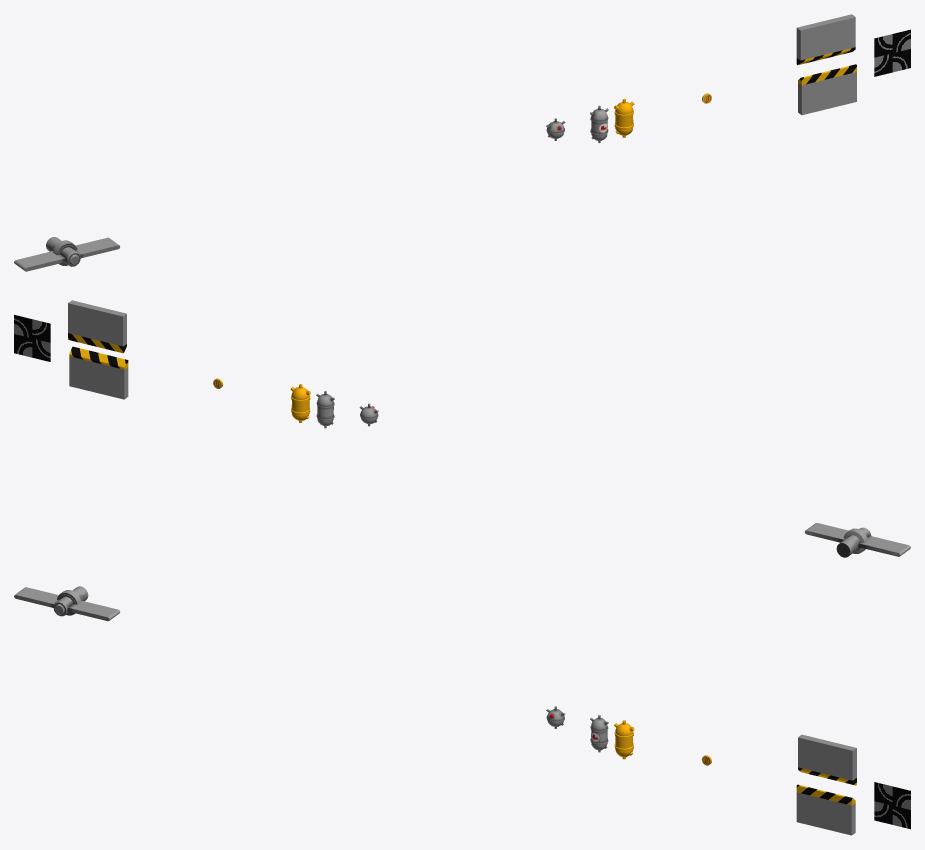
File: mobiles_items.FBX
The picture shows the model from 3 angles, top to bottom: view 1: azimuth 30°, elevation 25°; view 2: azimuth 150°, elevation 25°; view 3: azimuth 330°, elevation 25°; orthographic projection.
Parts seen in each view (by area): view 1: jawgate_top, jawgate_bottom, rotary_gate_0, fx_plane, body_capsule_edge, body_capsule_foot; view 2: jawgate_bottom, jawgate_top, rotary_gate_0, fx_plane, body_capsule_edge, body_capsule_foot; view 3: jawgate_bottom, jawgate_top, rotary_gate_0, fx_plane, body_capsule_edge, body_capsule_foot.
Boxes of the visible parts, x1,y1,x2,y2 form: jawgate_top: (796, 14, 855, 65); jawgate_bottom: (798, 64, 856, 115); rotary_gate_0: (14, 237, 119, 271); fx_plane: (874, 29, 910, 76); body_capsule_edge: (614, 98, 634, 137); body_capsule_foot: (590, 105, 608, 143); jawgate_bottom: (69, 346, 128, 399); jawgate_top: (68, 300, 126, 353); rotary_gate_0: (805, 523, 910, 557); fx_plane: (14, 315, 50, 361); body_capsule_edge: (290, 384, 310, 422); body_capsule_foot: (316, 391, 334, 428); jawgate_bottom: (796, 784, 855, 835); jawgate_top: (798, 734, 856, 785); rotary_gate_0: (14, 586, 119, 621); fx_plane: (874, 782, 910, 829); body_capsule_edge: (614, 720, 634, 759); body_capsule_foot: (590, 715, 608, 752).
Size of the model in its own units: 96.92 by 8.71 by 4.18.
Materials: 10 (5 with a texture image).
